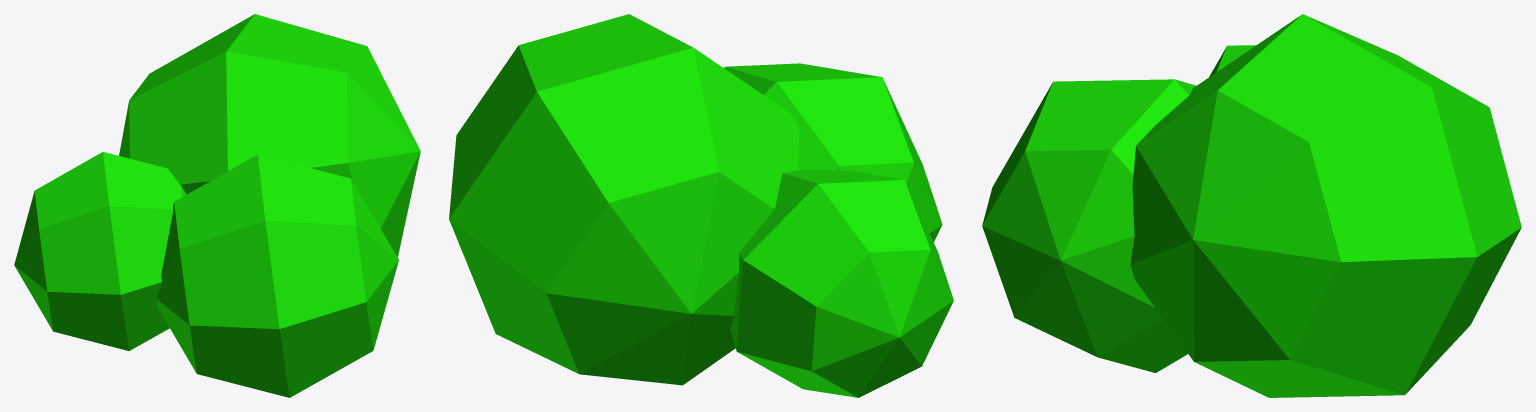
Rendered from Arbusto_3.fbx.
3 renders of one model, left to right at view 1: azimuth 30°, elevation 25°; view 2: azimuth 150°, elevation 25°; view 3: azimuth 270°, elevation 25°, orthographic. The views are drawn at different scales.
Visible parts, largest first — view 1: Sphere.010; view 2: Sphere.010; view 3: Sphere.010.
Part boxes in pixels (box(x1,y1,x2,y2)): Sphere.010: box(14, 14, 420, 397); Sphere.010: box(449, 14, 953, 397); Sphere.010: box(982, 14, 1521, 397).
Bounding box in the file's own units: 0.9383 × 0.663 × 0.9088.
